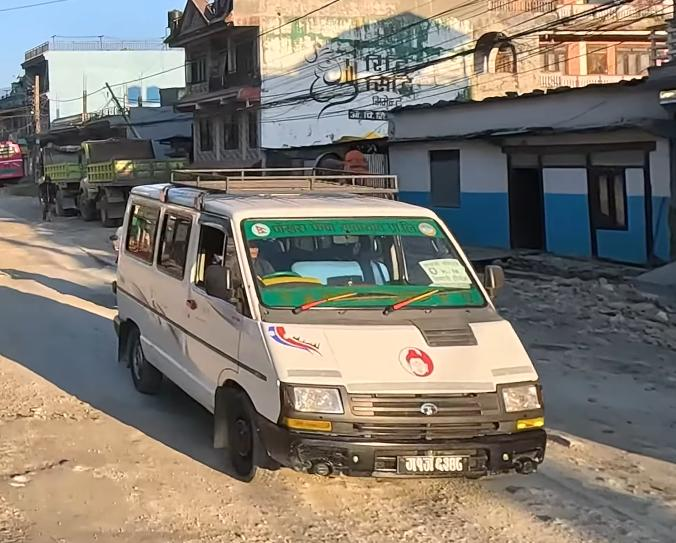bus: (0, 140, 25, 191)
micro_bus: (111, 165, 558, 494)
truck: (71, 133, 182, 228)
